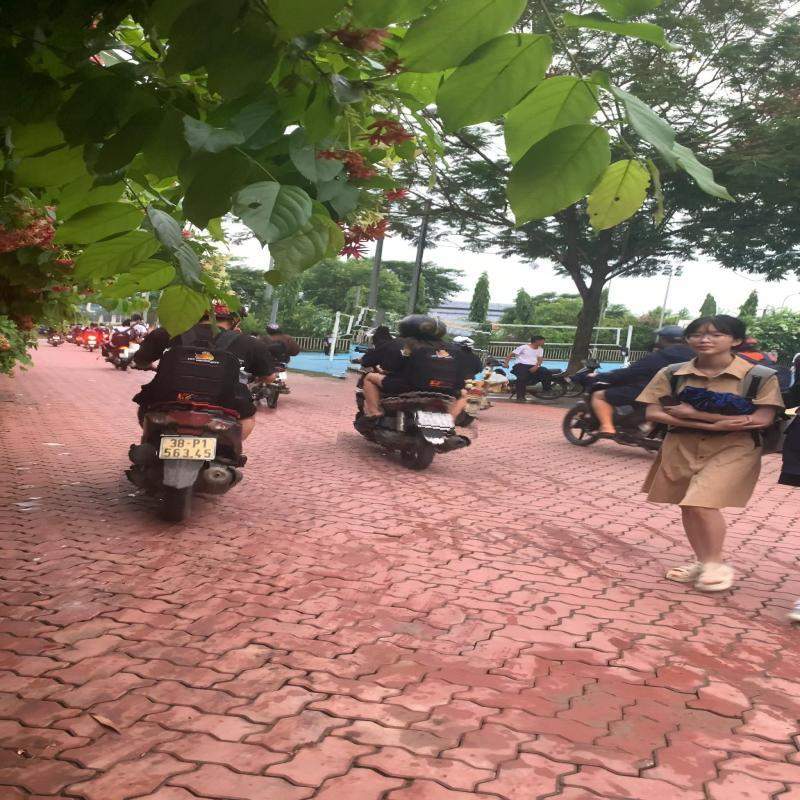helmet: (394, 312, 438, 336)
licenseplate: (157, 436, 218, 460), (416, 410, 457, 428)
motorcyclist: (120, 290, 280, 528), (339, 309, 487, 476)
